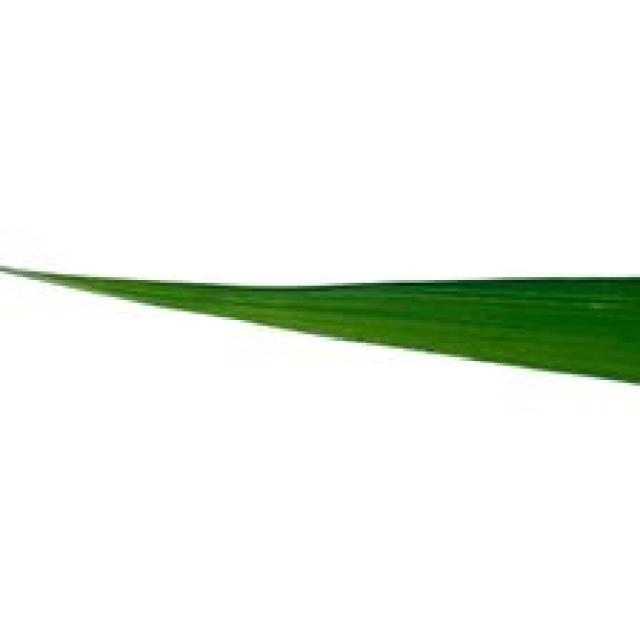Rice___Healthy_Rice_Plant: (2, 268, 638, 389)
